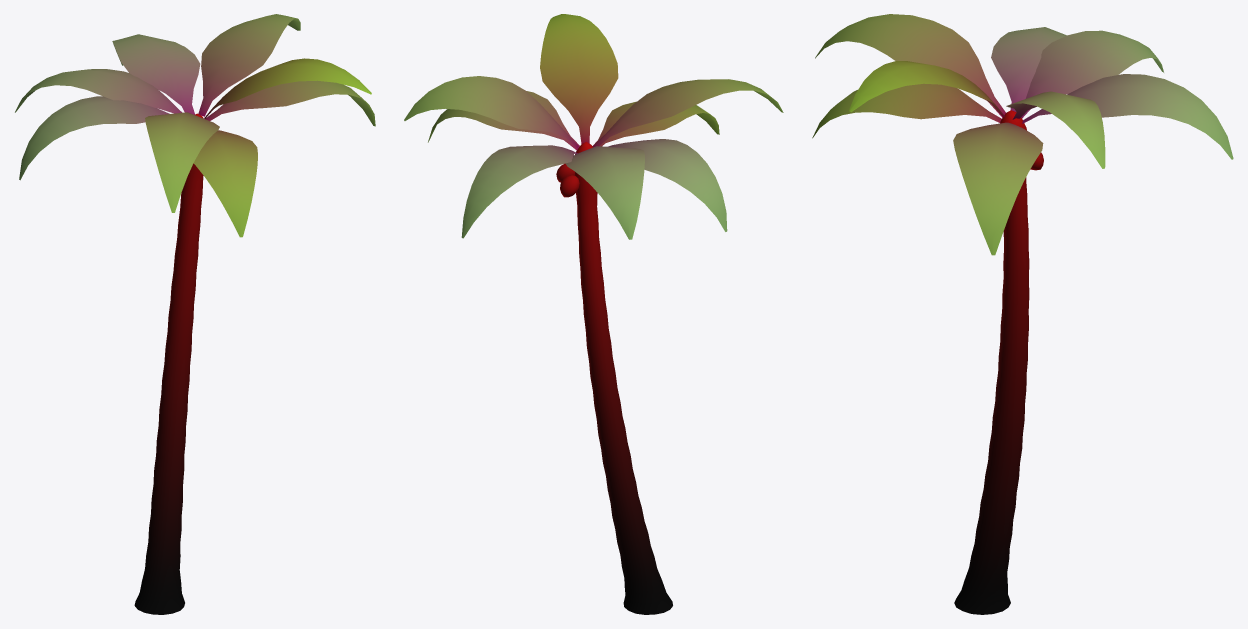
File: SM_Palm_01.glb
3 views of the same model, side by side, from view 1: azimuth 30°, elevation 25°; view 2: azimuth 150°, elevation 25°; view 3: azimuth 270°, elevation 25° (orthographic). The views are drawn at different scales.
Parts seen in each view (by area): view 1: SM_Palm_01_LOD0; view 2: SM_Palm_01_LOD0; view 3: SM_Palm_01_LOD0.
Boxes of the visible parts, x1,y1,x2,y2 form: SM_Palm_01_LOD0: (15, 14, 375, 614); SM_Palm_01_LOD0: (404, 14, 783, 614); SM_Palm_01_LOD0: (812, 14, 1233, 614).
Size of what is drawn, in the model's own units: 4.5 by 7 by 4.48.
